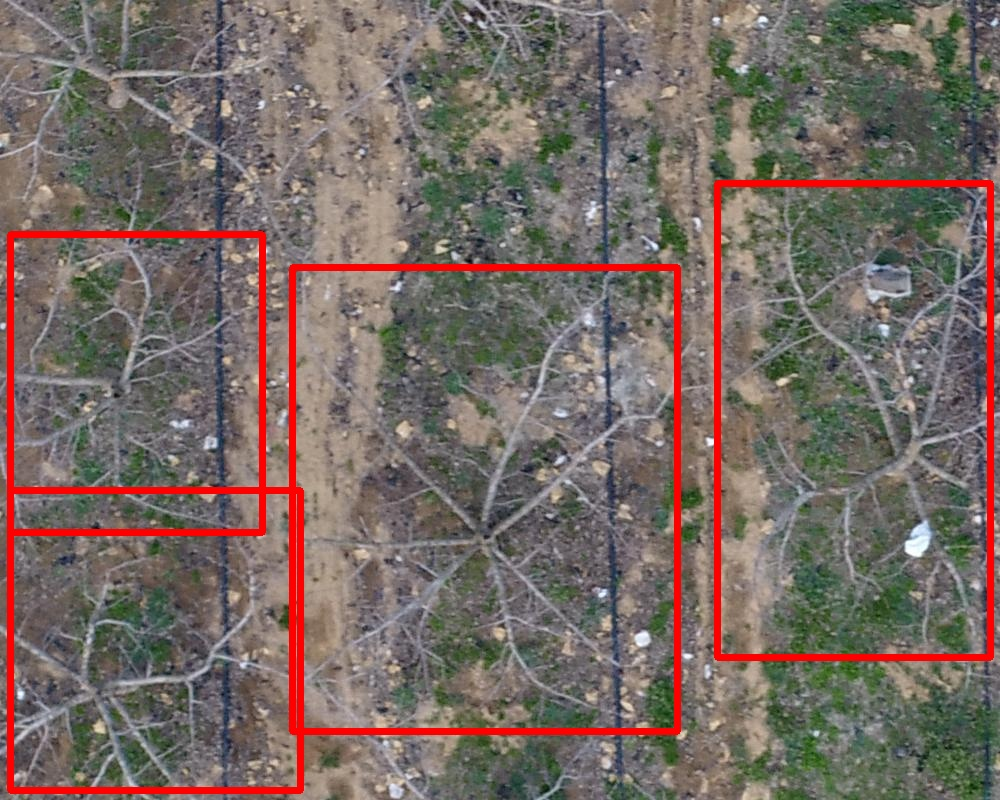apple: (292, 267, 677, 731), (717, 183, 990, 657), (10, 490, 300, 790), (10, 234, 262, 532)
